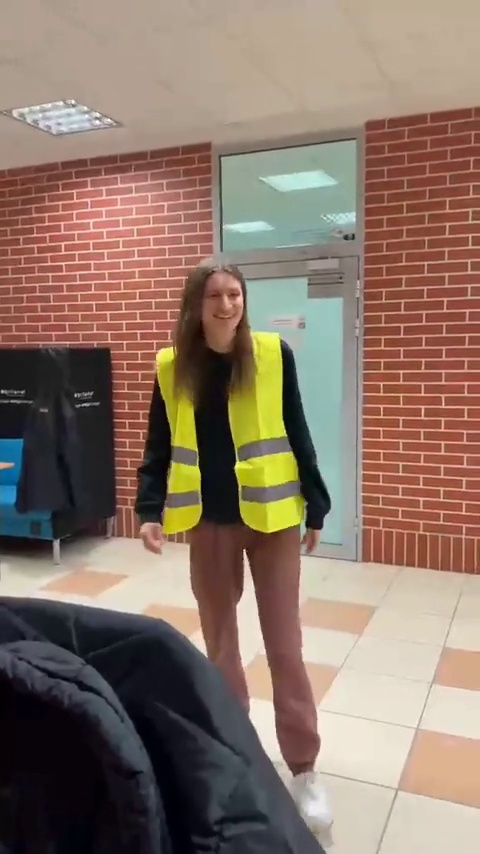vest: (144, 256, 334, 819)
